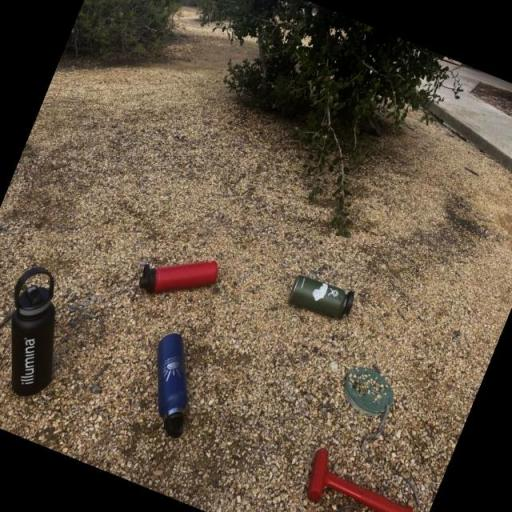bottle: (0, 257, 90, 406), (127, 326, 218, 441), (132, 236, 223, 316), (285, 268, 359, 326)
mallet: (296, 443, 426, 512)
